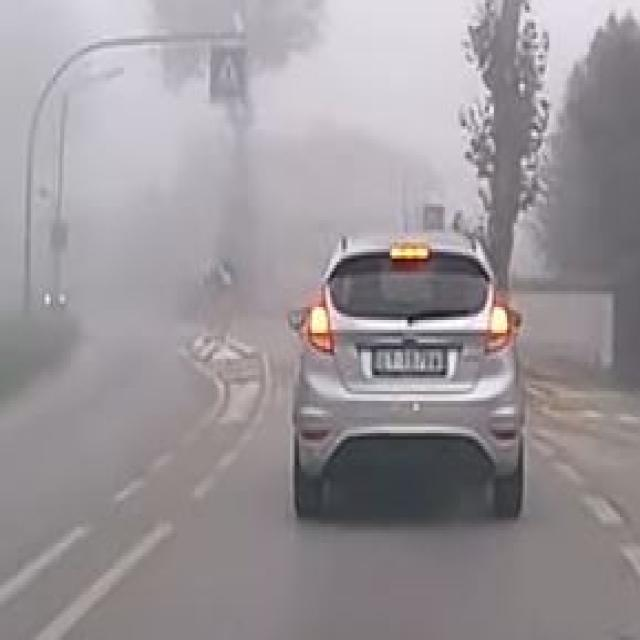Car: (288, 231, 529, 526)
Pedestrian crosswalk: (210, 46, 246, 106)
